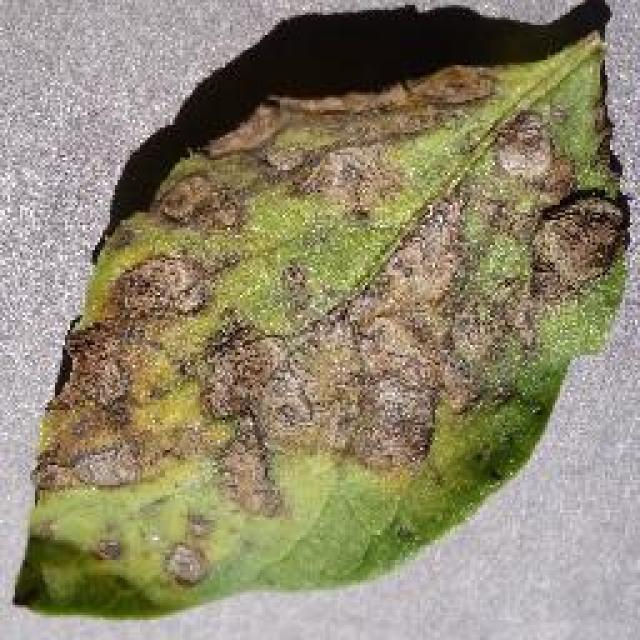Potato___Early_blight: (8, 26, 634, 622)
